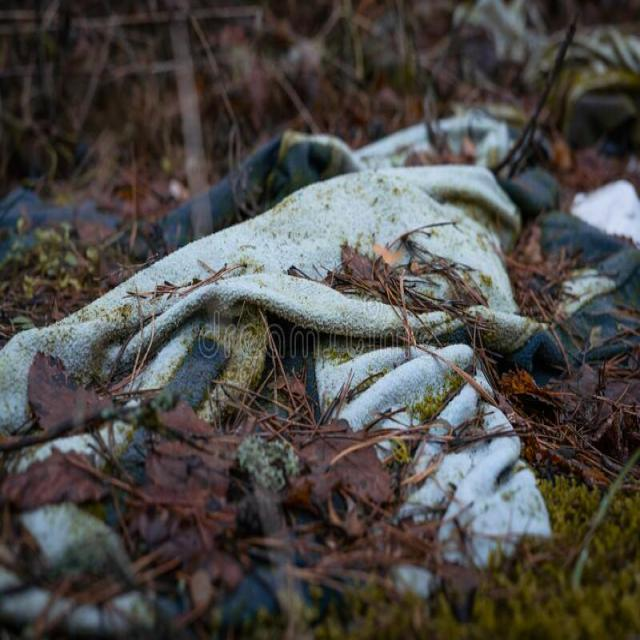clothes: (200, 212, 502, 482)
